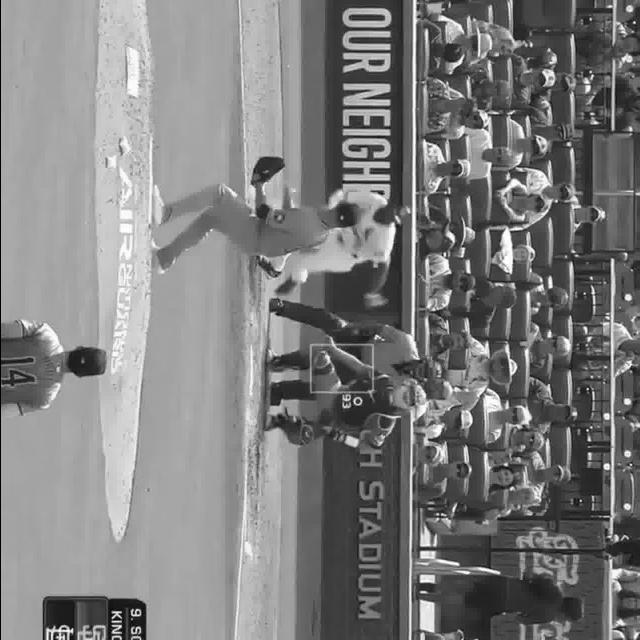base: (248, 346, 255, 396)
baseball_glove: (248, 156, 284, 188), (317, 409, 338, 442)
shoe: (150, 242, 168, 272), (152, 184, 164, 225), (252, 260, 276, 280), (277, 276, 303, 294), (260, 416, 274, 434), (268, 354, 276, 374)
